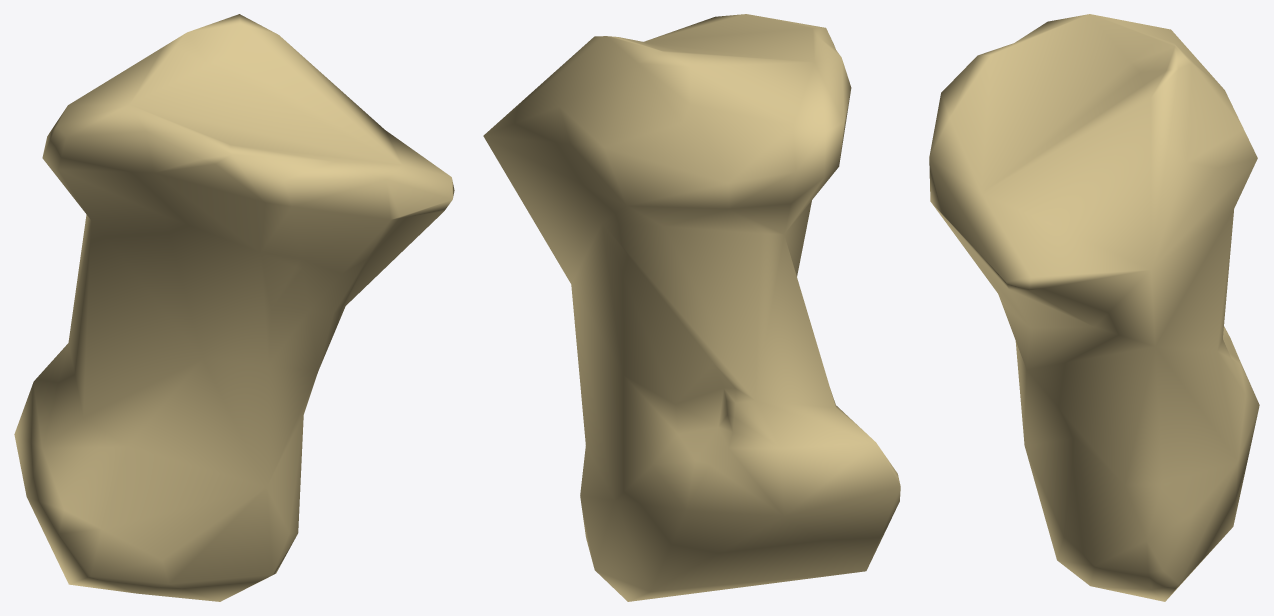
The picture shows the model from 3 angles, left to right: view 1: azimuth 30°, elevation 25°; view 2: azimuth 150°, elevation 25°; view 3: azimuth 270°, elevation 25°; orthographic projection. The views are drawn at different scales.
Visible parts, largest first — view 1: 右侧第二趾远节趾骨; view 2: 右侧第二趾远节趾骨; view 3: 右侧第二趾远节趾骨.
Part boxes in pixels (box(x1,y1,x2,y2)): 右侧第二趾远节趾骨: box(14, 14, 454, 601); 右侧第二趾远节趾骨: box(483, 14, 900, 601); 右侧第二趾远节趾骨: box(929, 14, 1259, 601).
Size of the model in its own units: 0.015 by 0.0201 by 0.0112.
